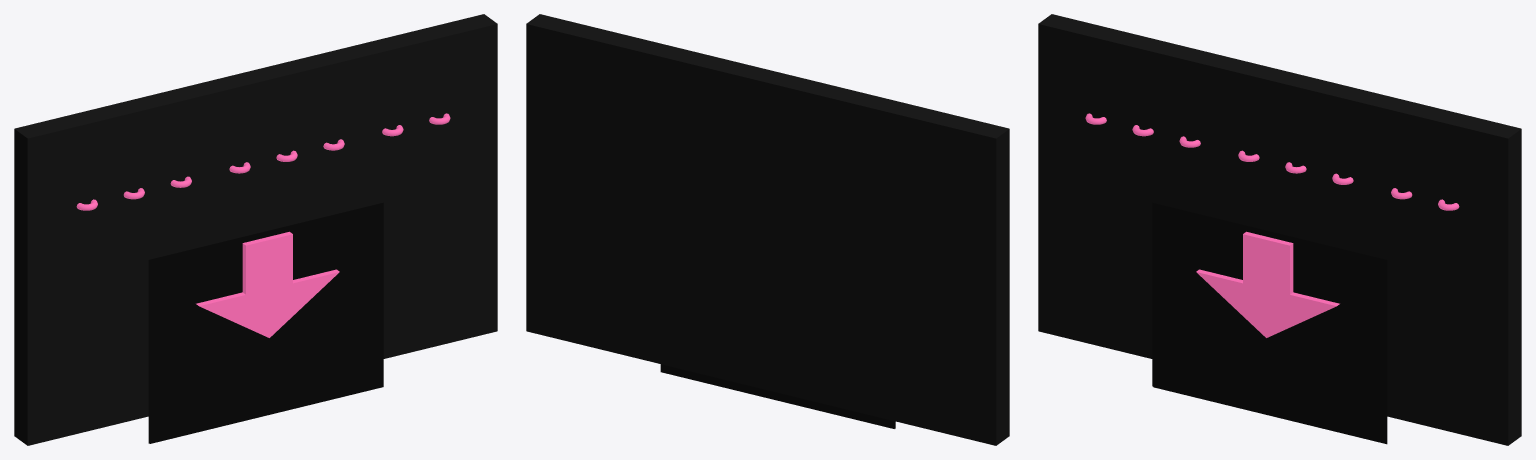
File: neon_motel_sign.glb
3 renders of one model, left to right at view 1: azimuth 30°, elevation 25°; view 2: azimuth 150°, elevation 25°; view 3: azimuth 330°, elevation 25°, orthographic.
Parts seen in each view (by area): view 1: neon_sign_1965; view 2: neon_sign_1965; view 3: neon_sign_1965.
Boxes of the visible parts, <box> form: neon_sign_1965: <box>14,14,497,445</box>; neon_sign_1965: <box>526,14,1009,445</box>; neon_sign_1965: <box>1038,14,1521,445</box>.
Size of the model in its own units: 4 by 2.7 by 0.3.
3 materials, 1 textured.
